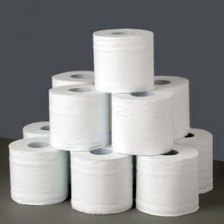tissue: (131, 142, 204, 220), (63, 140, 136, 218), (87, 21, 160, 99), (105, 84, 177, 159), (3, 134, 74, 208), (44, 79, 113, 155), (154, 123, 218, 198), (137, 69, 194, 142), (45, 65, 99, 94), (17, 116, 70, 144)
